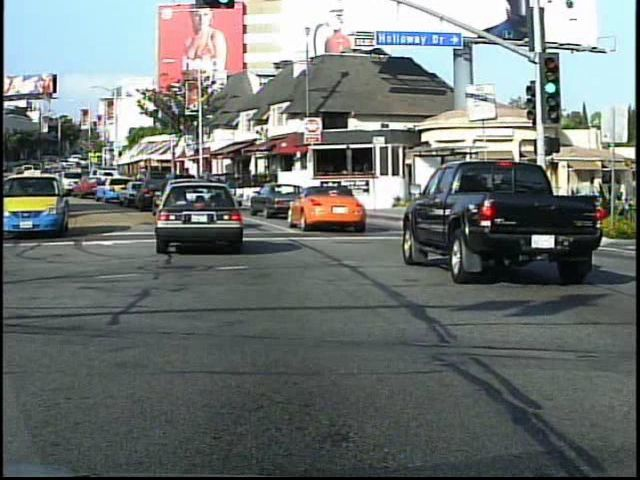person: (595, 178, 617, 256)
